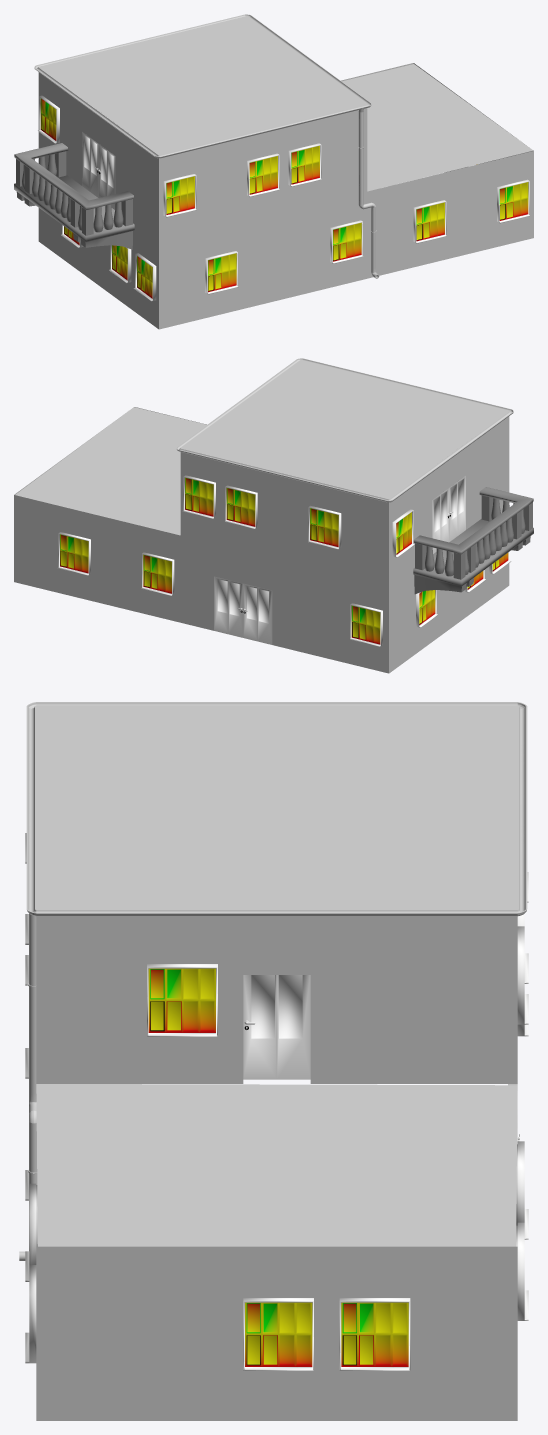
File: strange_building.fbx
3 views of the same model, one above another, from view 1: azimuth 30°, elevation 25°; view 2: azimuth 150°, elevation 25°; view 3: azimuth 270°, elevation 25° (orthographic). The views are drawn at different scales.
Parts seen in each view (by area): view 1: parete_3, soffitto, parete_4, finestra_3, balcone, finestra_4, tubature_004, porta_4, tubature_1, tubature_4, tubature_2; view 2: parete_1, soffitto, parete_4, finestra_1, balcone, porta_1, finestra_4, porta_4, tubature_1, tubature_004, tubature_4, tubature_2; view 3: soffitto, parete_2, finestra_2, porta_2, tubature_004, tubature_2, finestra_1, tubature_1, finestra_3, tubature_4.
Part boxes in pixels (box(x1,y1,x2,y2)): parete_3: box(159, 108, 533, 329); soffitto: box(39, 16, 532, 191); parete_4: box(38, 72, 158, 329); finestra_3: box(163, 143, 529, 294); balcone: box(14, 143, 134, 249); finestra_4: box(38, 95, 156, 301); tubature_004: box(152, 101, 379, 278); porta_4: box(82, 132, 115, 209); tubature_1: box(34, 14, 252, 70); tubature_4: box(37, 69, 156, 155); tubature_2: box(250, 17, 368, 103); parete_1: box(14, 452, 388, 673); soffitto: box(15, 360, 508, 535); parete_4: box(389, 416, 509, 673); finestra_1: box(58, 475, 382, 646); balcone: box(413, 487, 533, 594); porta_1: box(214, 576, 272, 644); finestra_4: box(392, 509, 511, 627); porta_4: box(432, 476, 465, 553); tubature_1: box(176, 445, 395, 502); tubature_004: box(295, 358, 513, 414); tubature_4: box(392, 413, 510, 499); tubature_2: box(179, 361, 297, 447); soffitto: box(36, 706, 517, 1246); parete_2: box(36, 916, 517, 1420); finestra_2: box(147, 964, 410, 1370); porta_2: box(243, 975, 310, 1079); tubature_004: box(19, 702, 45, 1260); tubature_2: box(46, 909, 507, 916); finestra_1: box(517, 872, 528, 1320); tubature_1: box(508, 702, 527, 916); finestra_3: box(25, 833, 36, 1363); tubature_4: box(46, 702, 507, 705).
Bounding box in the file's own units: 20.57 × 8 × 10.58.
